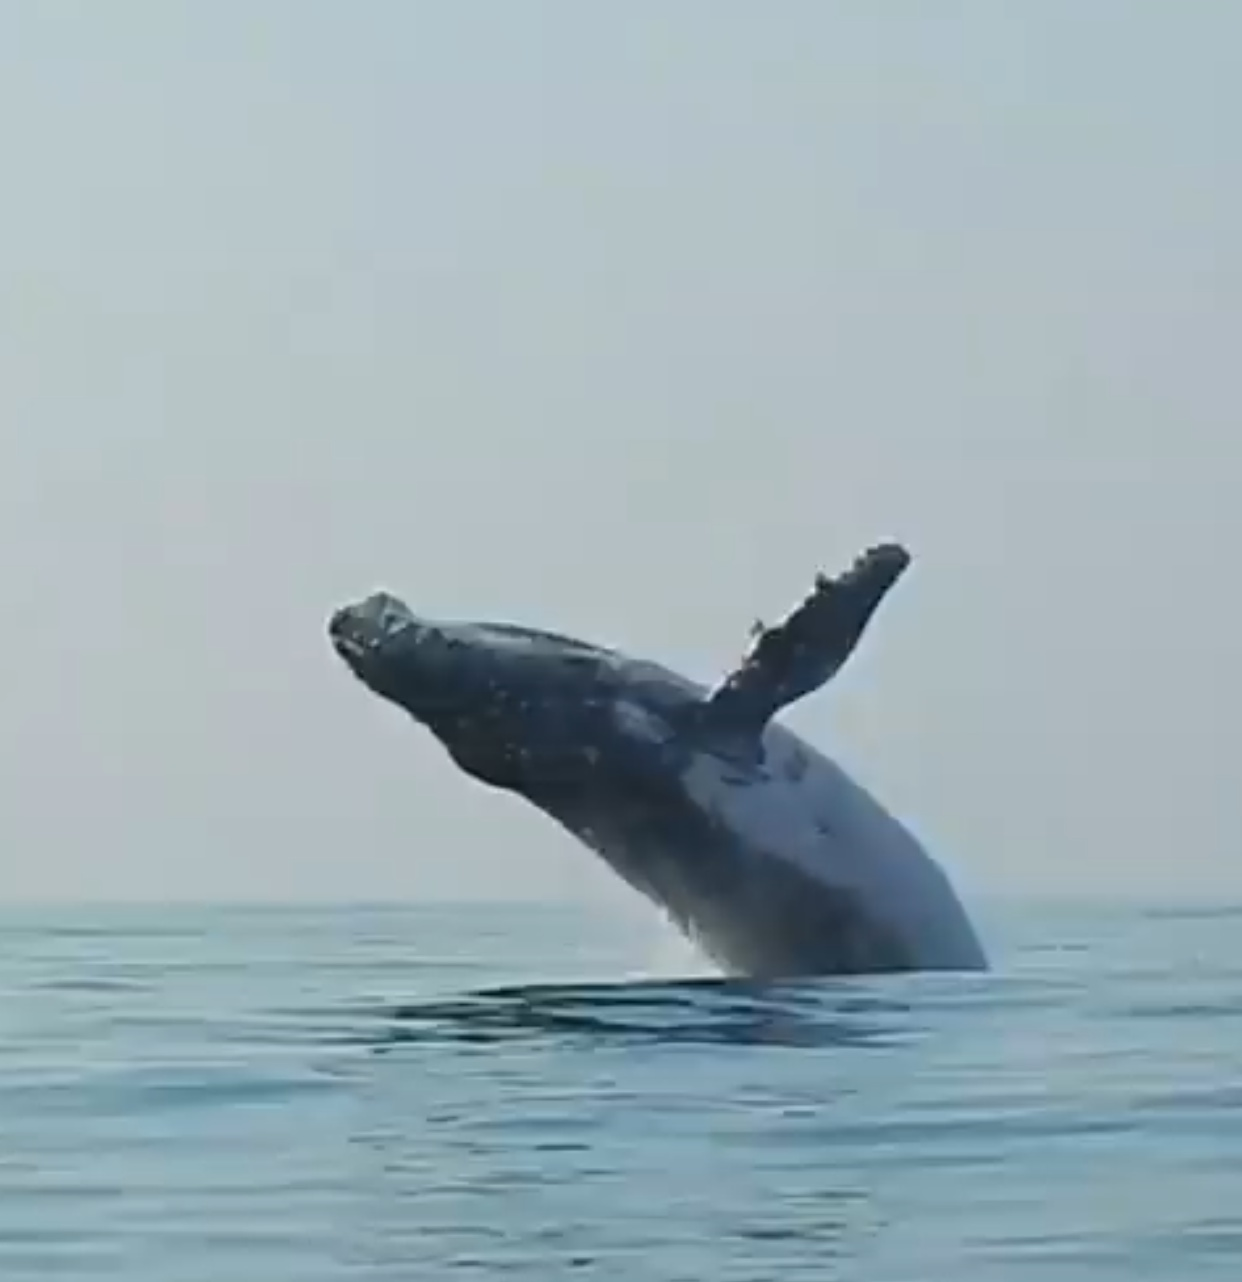humpback: (325, 587, 996, 970)
